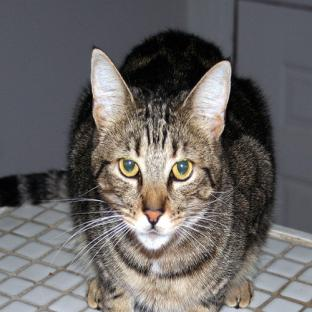Animal: (0, 31, 275, 311)
